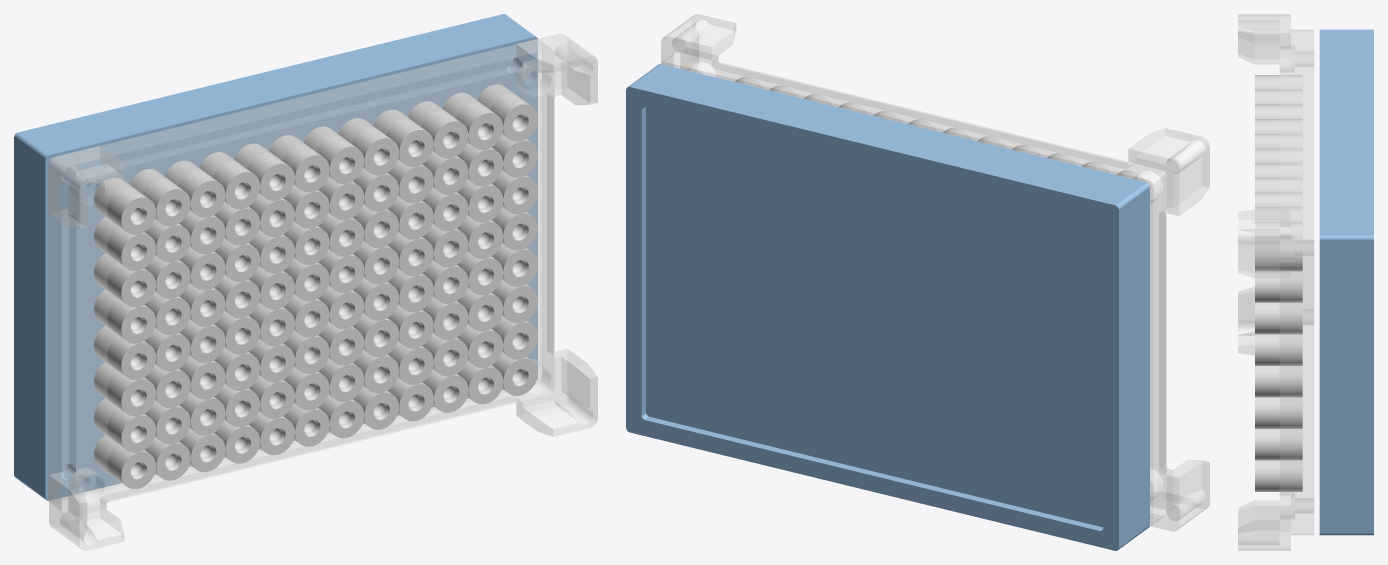
File: alpaqua_96_plateadapter_magnum_flx.glb
3 renders of one model, left to right at view 1: azimuth 30°, elevation 25°; view 2: azimuth 150°, elevation 25°; view 3: azimuth 270°, elevation 25°, orthographic. The views are drawn at different scales.
Visible parts, largest first — view 1: magnets_steel, cover_polycarbonate, base_anodised_aluminium; view 2: base_anodised_aluminium, cover_polycarbonate, magnets_steel; view 3: base_anodised_aluminium, cover_polycarbonate, magnets_steel.
Part boxes in pixels (x1,y1,x2,y2): magnets_steel: [94, 84, 537, 488]; cover_polycarbonate: [48, 33, 597, 550]; base_anodised_aluminium: [14, 14, 537, 500]; base_anodised_aluminium: [626, 64, 1149, 550]; cover_polycarbonate: [661, 14, 1209, 531]; magnets_steel: [734, 77, 1144, 181]; base_anodised_aluminium: [1319, 29, 1373, 535]; cover_polycarbonate: [1238, 14, 1314, 550]; magnets_steel: [1255, 75, 1302, 491].
Bounding box in the file's own units: 0.1344 × 0.0922 × 0.0351.
